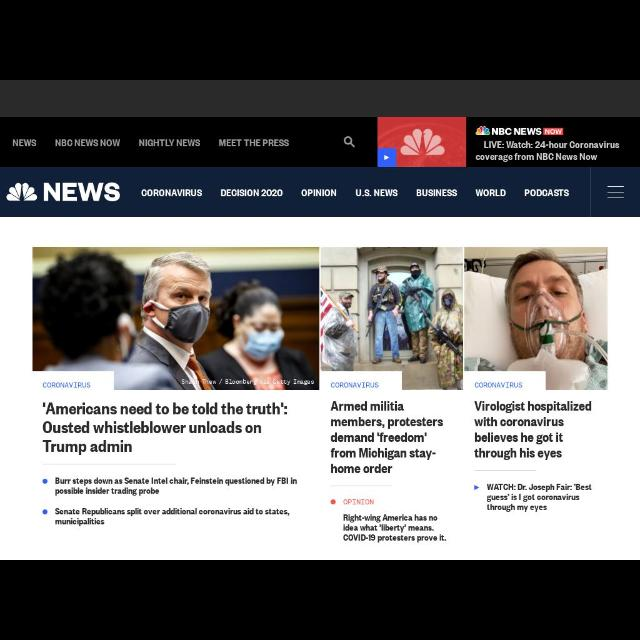icon: (607, 185, 625, 201), (343, 136, 355, 148), (474, 484, 480, 490), (330, 499, 336, 505), (42, 478, 48, 484), (42, 510, 48, 514)
image: (33, 246, 320, 390), (464, 246, 608, 390), (321, 248, 464, 390), (378, 118, 466, 166), (6, 183, 122, 203), (476, 126, 564, 136)
multitab: (12, 136, 290, 148)
text: (331, 401, 443, 474), (42, 402, 288, 434), (474, 400, 592, 460), (56, 477, 298, 495), (54, 508, 290, 526), (486, 483, 592, 513), (476, 140, 620, 162), (343, 514, 447, 542), (42, 440, 132, 454), (55, 138, 121, 148), (138, 138, 202, 148), (141, 188, 203, 198), (218, 139, 288, 147), (221, 189, 283, 197), (524, 188, 568, 196), (356, 189, 398, 197), (417, 189, 458, 197), (301, 189, 337, 197), (12, 138, 38, 148), (344, 498, 374, 506), (476, 189, 506, 197)
toolbar: (1, 168, 640, 216)
